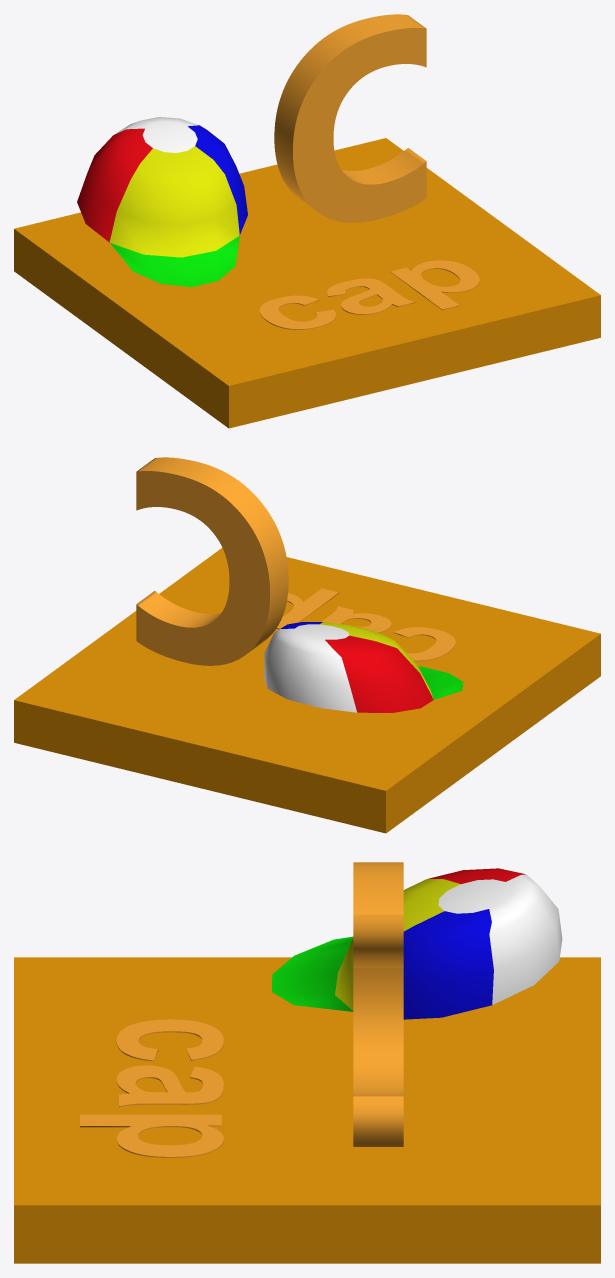
Rendered from cletter.glb.
3 views of the same model, one above another, from view 1: azimuth 30°, elevation 25°; view 2: azimuth 150°, elevation 25°; view 3: azimuth 270°, elevation 25° (orthographic). The views are drawn at different scales.
Visible parts, largest first — view 1: Cube, Circle, Text.003, Text.002; view 2: Cube, Text.003, Circle, Text.002; view 3: Cube, Circle, Text.003, Text.002.
Boxes of the visible parts, x1,y1,x2,y2 form: Cube: (14,138,600,428); Circle: (77,117,247,287); Text.003: (274,14,426,222); Text.002: (259,260,479,329); Cube: (14,548,600,833); Text.003: (136,457,288,665); Circle: (264,622,463,712); Text.002: (276,588,455,661); Cube: (14,957,600,1263); Circle: (272,868,562,1019); Text.003: (353,862,403,1146); Text.002: (80,1019,223,1157).
Bounding box in the file's own units: 0.327 × 0.1991 × 0.327.
